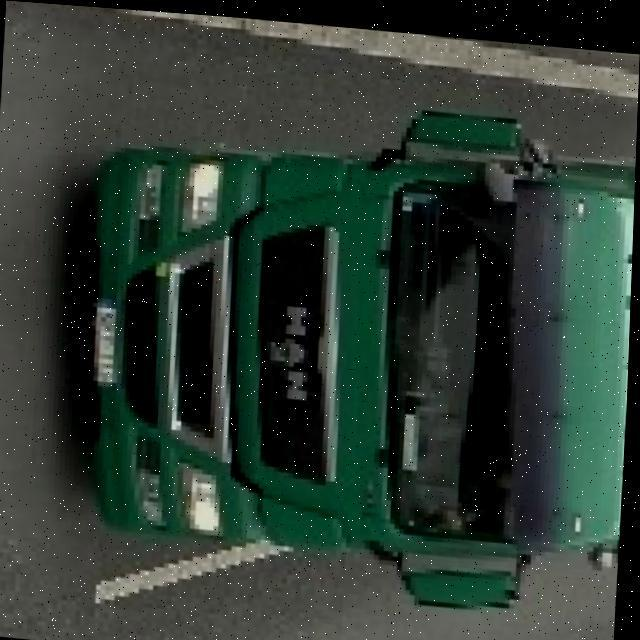truck: (71, 82, 638, 617)
